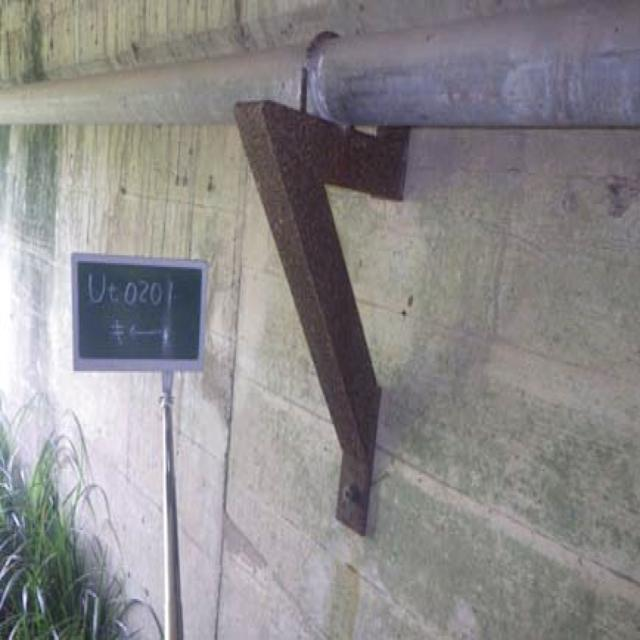corrosion: (233, 83, 421, 553)
